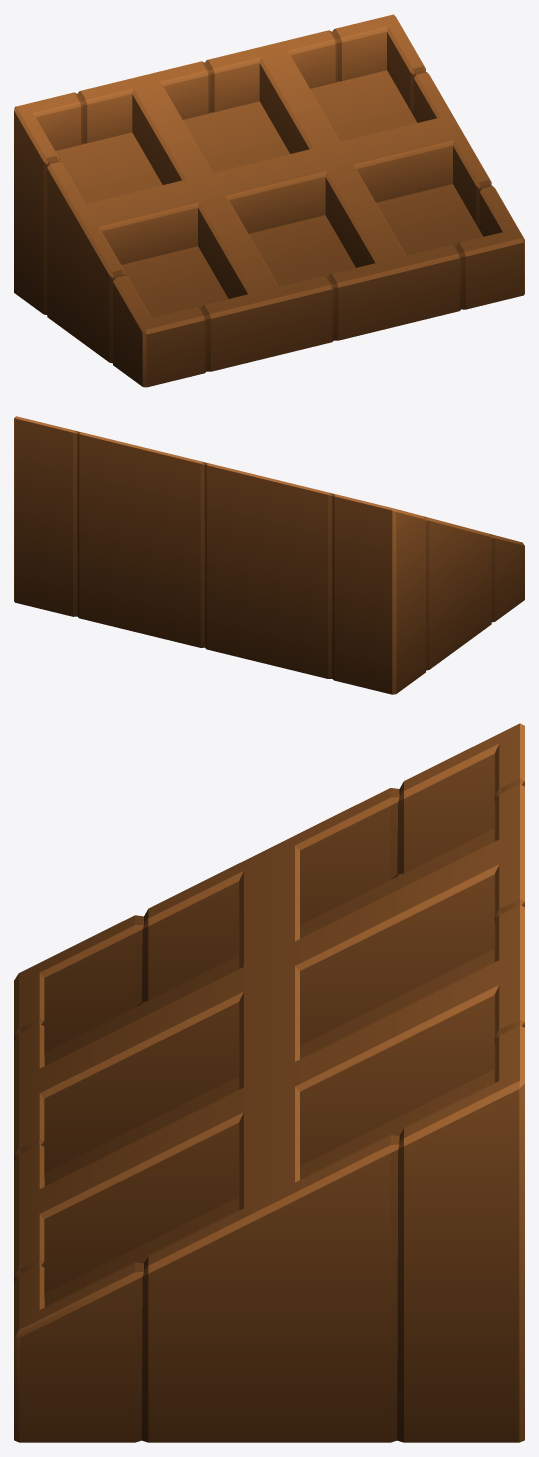
Rendered from Stall-0-1.fbx.
3 renders of one model, top to bottom at view 1: azimuth 30°, elevation 25°; view 2: azimuth 150°, elevation 25°; view 3: azimuth 270°, elevation 25°, orthographic. The views are drawn at different scales.
Parts seen in each view (by area): view 1: Stall-0-1; view 2: Stall-0-1; view 3: Stall-0-1.
Boxes of the visible parts, left/top/right/bottom form: Stall-0-1: left=14, top=14, right=524, bottom=387; Stall-0-1: left=14, top=416, right=524, bottom=694; Stall-0-1: left=14, top=723, right=524, bottom=1442.
Bounding box in the file's own units: 335 × 155 × 200.
